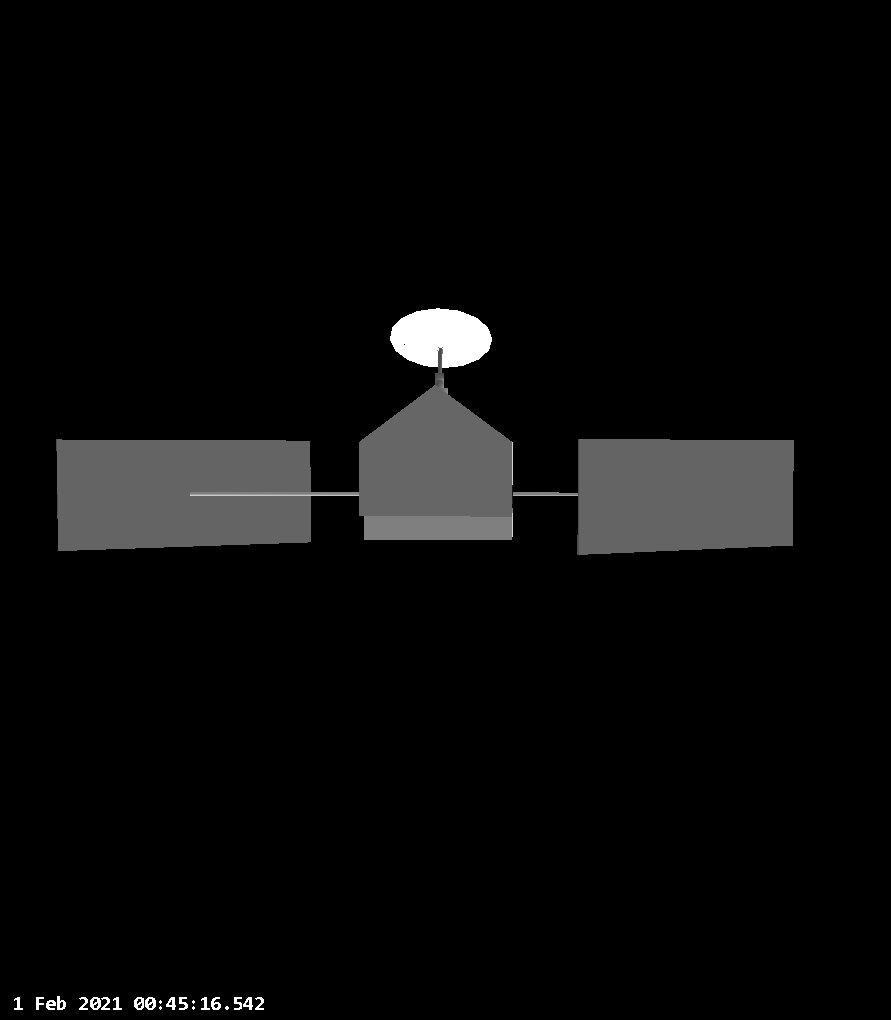antenna: (388, 303, 495, 369)
body: (356, 379, 521, 545)
solar: (54, 434, 315, 553), (574, 431, 799, 556)
